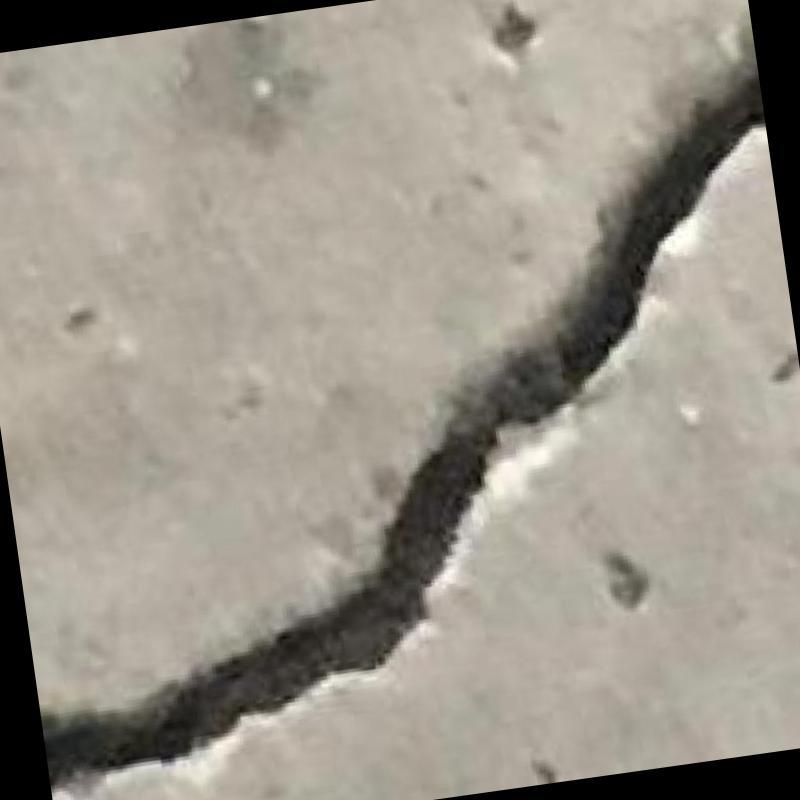crack: (41, 57, 765, 785)
